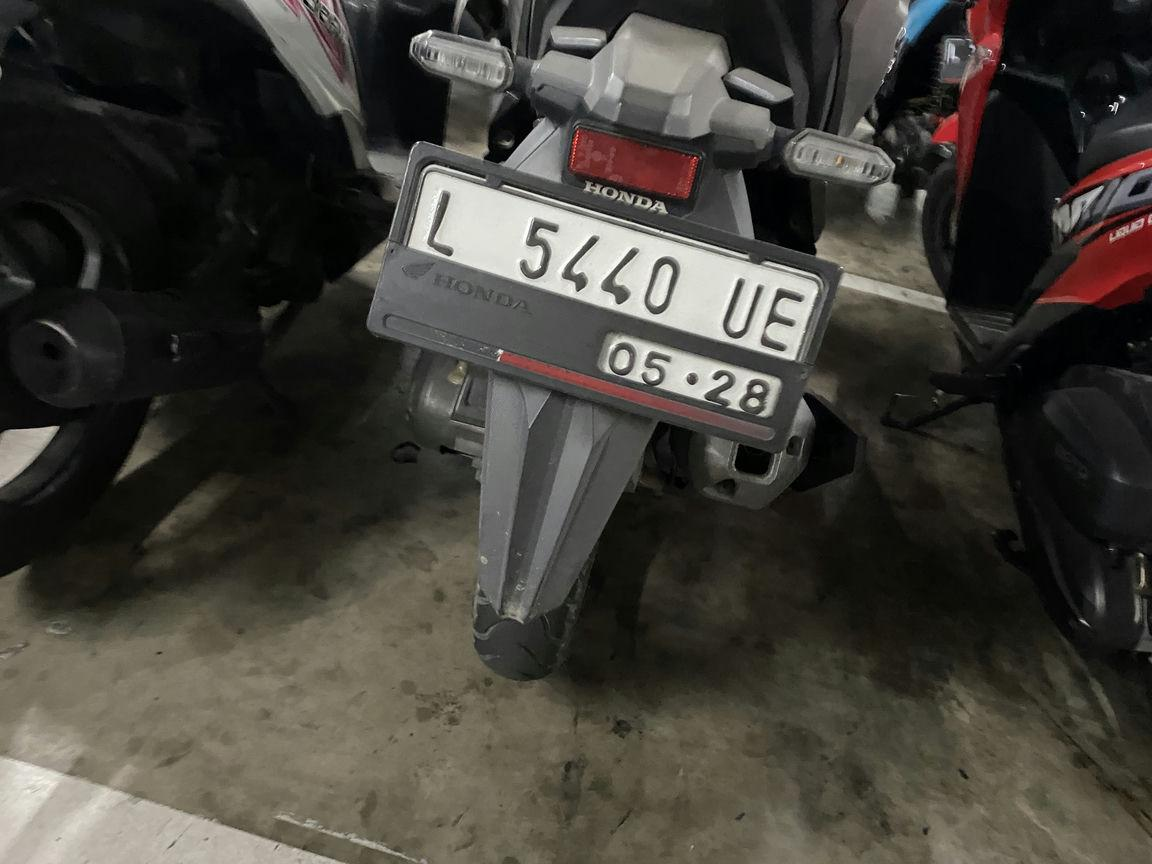plat: (369, 144, 839, 452)
